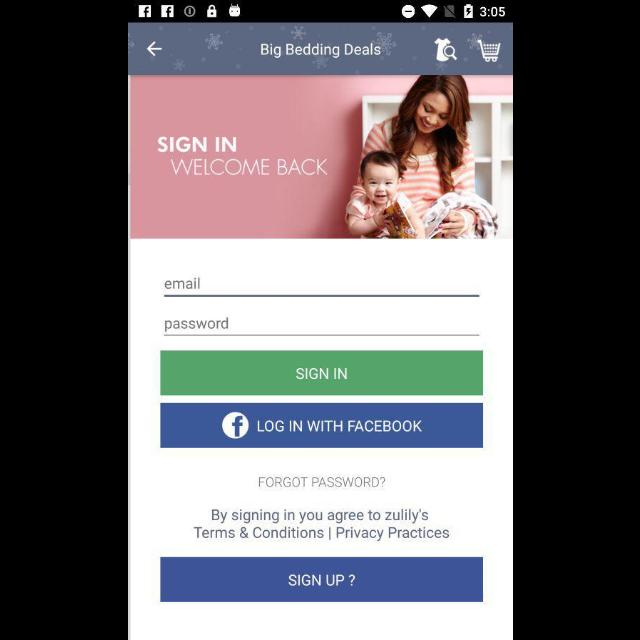icon: (476, 39, 500, 63), (434, 38, 456, 62), (146, 42, 162, 56)
image: (128, 75, 512, 239)
input: (164, 278, 478, 298), (164, 318, 478, 337)
text: (192, 508, 448, 542), (168, 158, 328, 175), (260, 43, 380, 59), (258, 477, 384, 488), (156, 136, 236, 152), (165, 318, 228, 332), (164, 278, 200, 290)
textbutton: (160, 350, 482, 396), (160, 556, 482, 602), (160, 404, 482, 448)
toolbar: (128, 24, 512, 74)
uppertaskbar: (128, 1, 512, 23)
